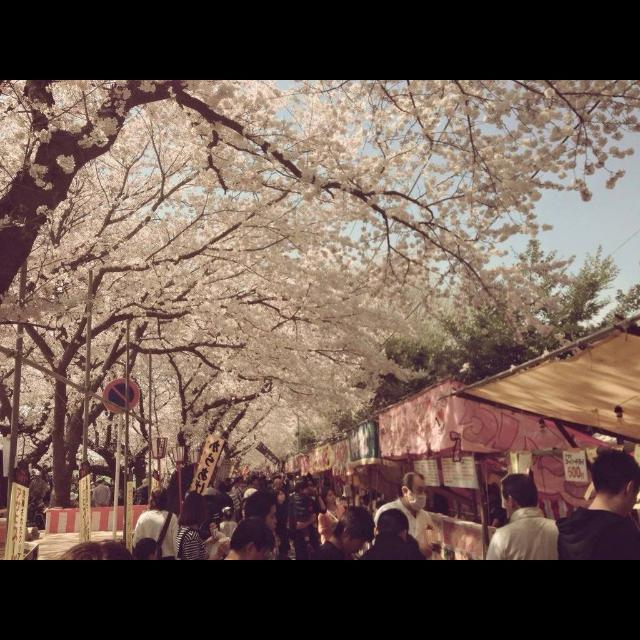Flower: (0, 80, 638, 490)
